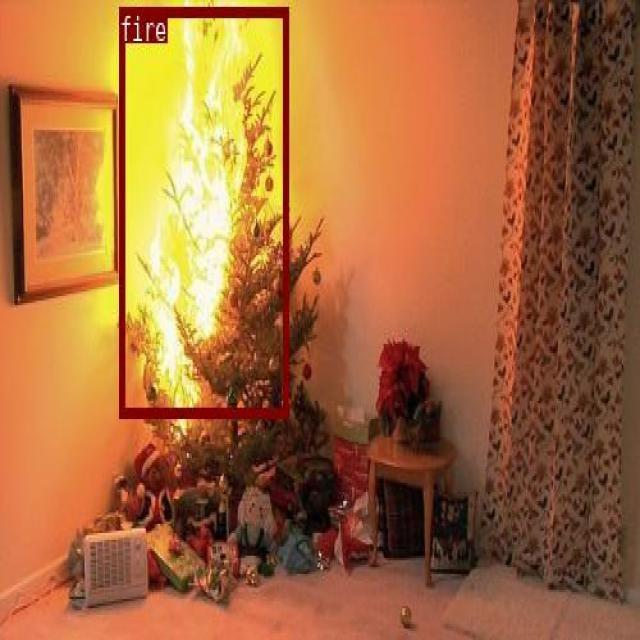fire: (119, 5, 288, 415)
